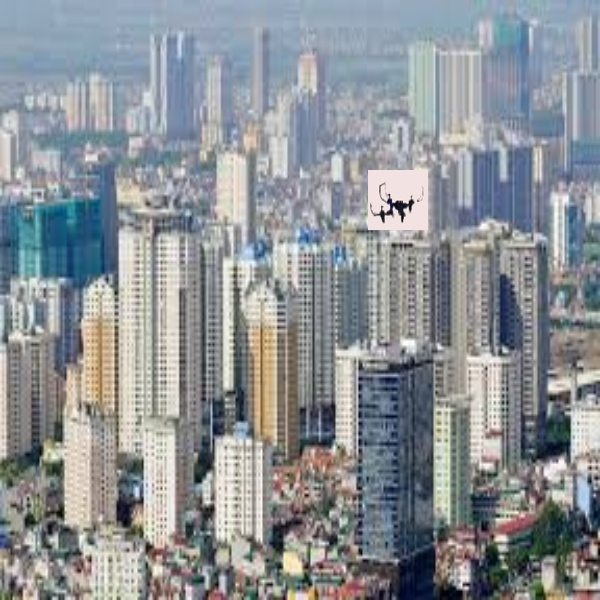drone: (368, 174, 430, 230)
